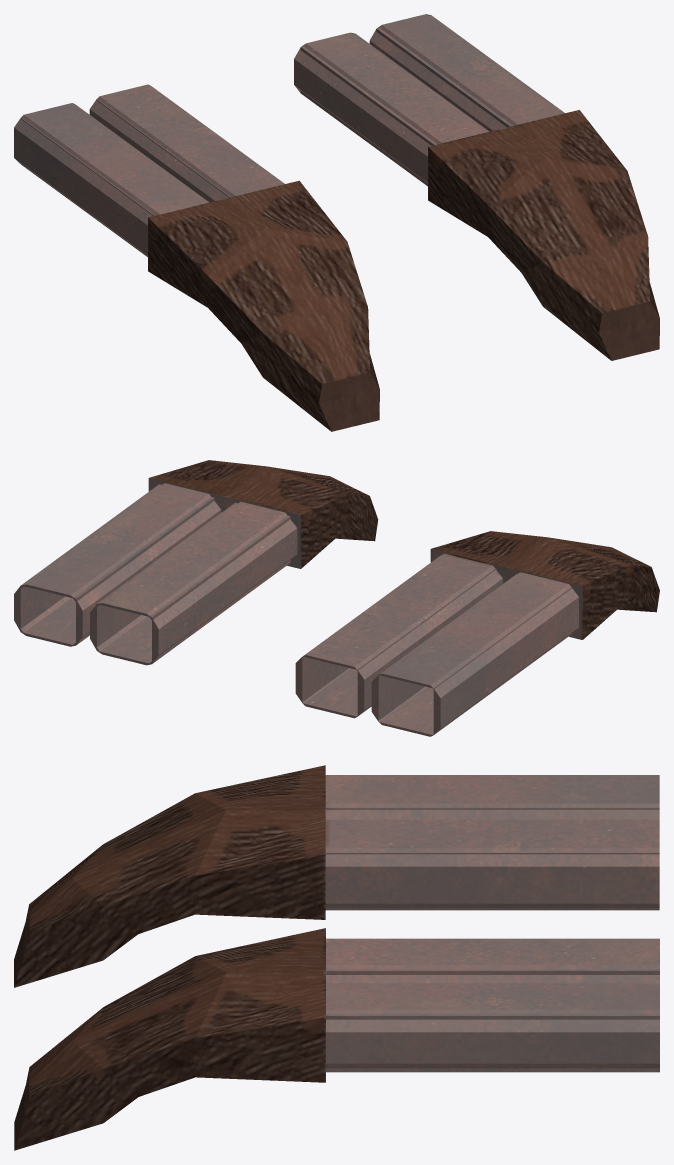
Rendered from Escopetas.glb.
The picture shows the model from 3 angles, top to bottom: view 1: azimuth 30°, elevation 25°; view 2: azimuth 150°, elevation 25°; view 3: azimuth 270°, elevation 25°; orthographic projection. The views are drawn at different scales.
Visible parts, largest first — view 1: Cube.001, Cube; view 2: Cube.001, Cube; view 3: Cube.001, Cube.
Part boxes in pixels (bbox=[...]): Cube.001: bbox=[14, 84, 379, 431]; Cube: bbox=[294, 14, 659, 360]; Cube.001: bbox=[295, 531, 659, 736]; Cube: bbox=[14, 460, 378, 665]; Cube.001: bbox=[14, 765, 659, 987]; Cube: bbox=[14, 928, 659, 1150].
Bounding box in the file's own units: 1.18 × 0.3558 × 1.26.
Materials: 1 (1 with a texture image).
